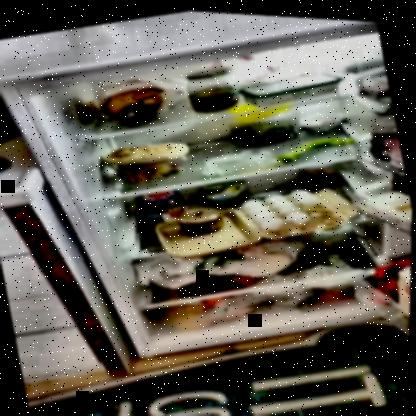cream_cheese: (240, 62, 342, 108)
eggs: (244, 183, 324, 232)
green_chillies: (275, 126, 354, 161)
milk: (396, 260, 411, 315)
olives: (229, 105, 303, 150)
red_onion: (119, 97, 154, 125)
